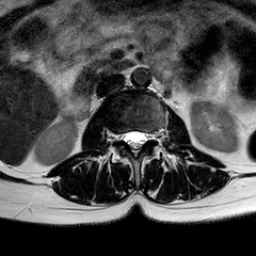CCS_normal: (131, 121, 139, 163)
LFS_normal: (148, 122, 156, 150)
LLS_normal: (139, 122, 148, 151)
RFS_normal: (113, 123, 121, 150)
RLS_normal: (121, 123, 131, 151)
